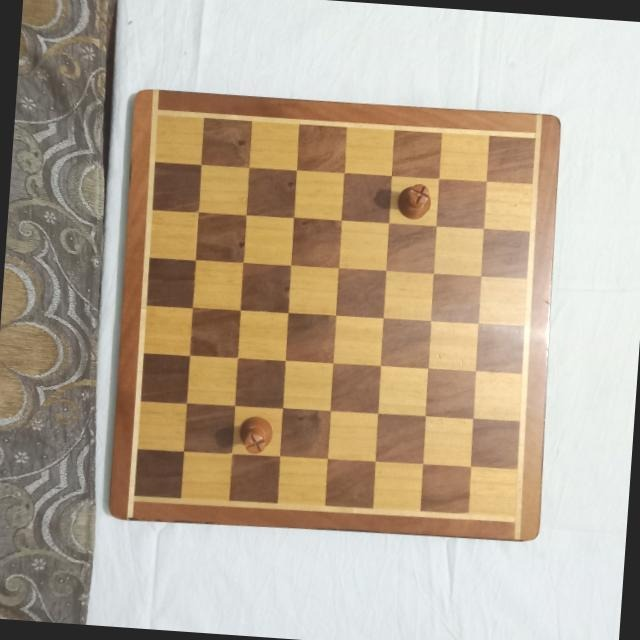white-rook: (392, 181, 433, 222), (236, 413, 275, 455)
